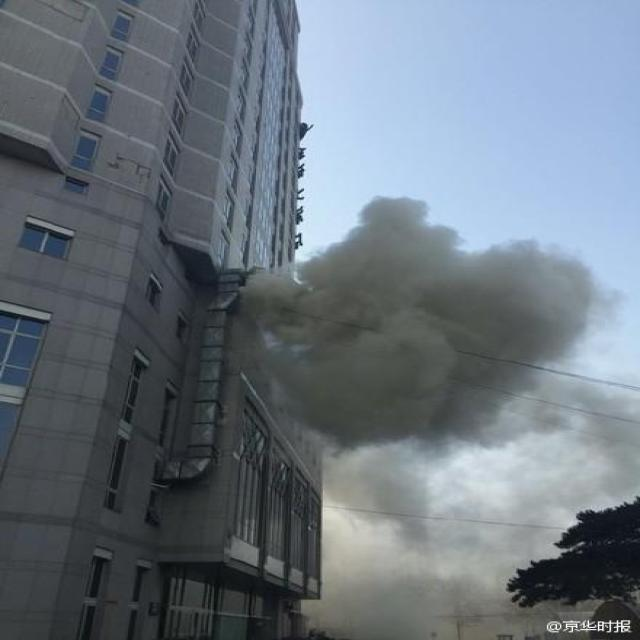Smoke: (234, 194, 640, 640)
